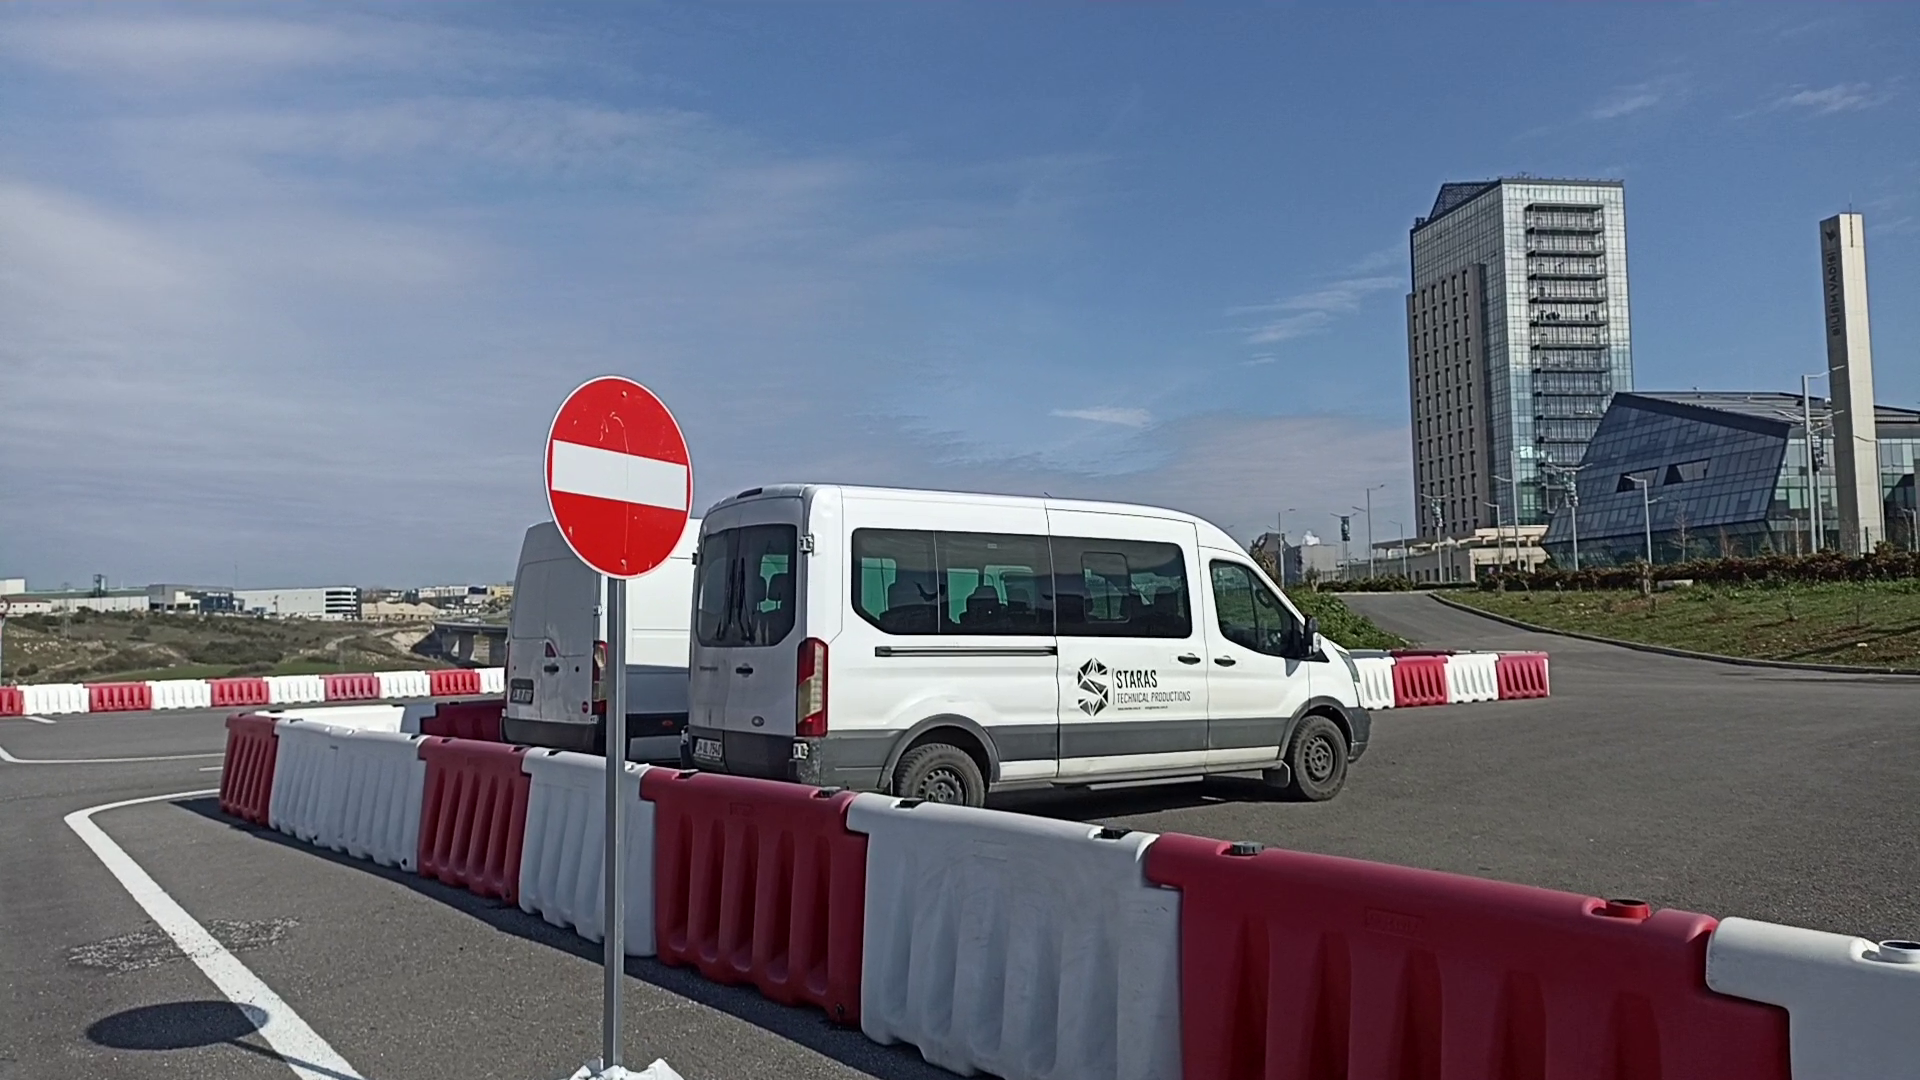noentryway: (541, 371, 695, 585)
